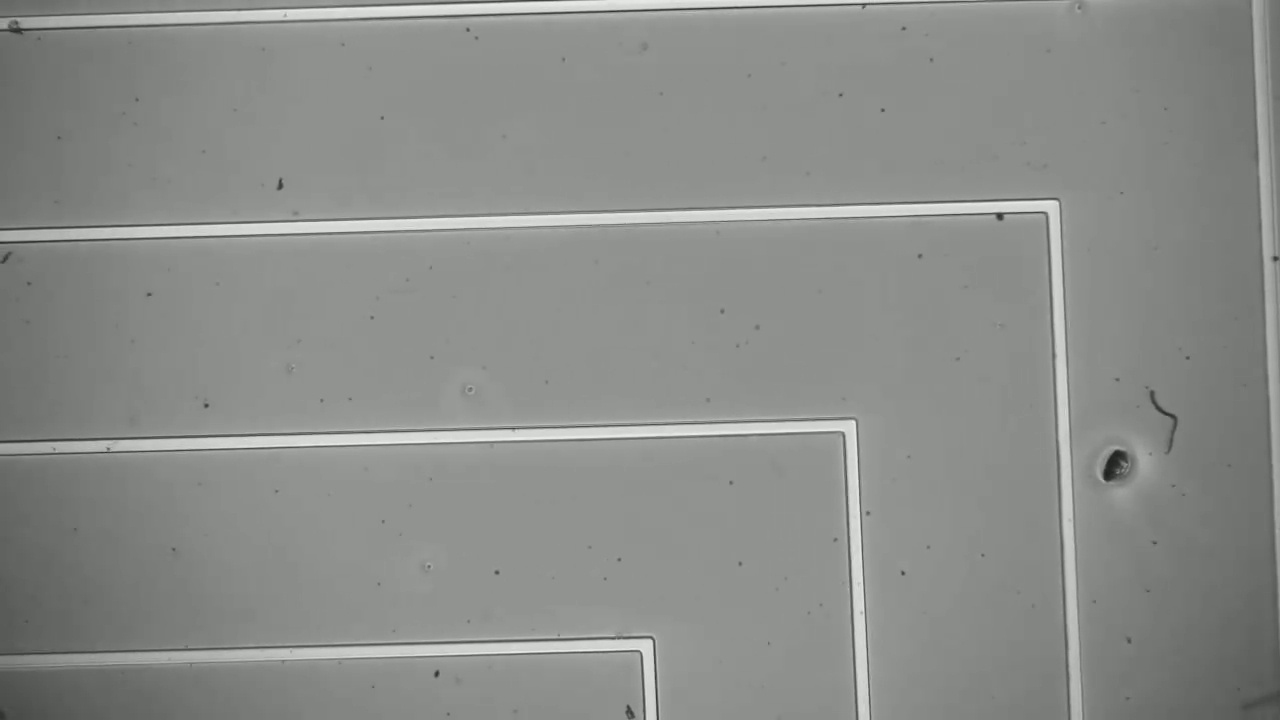stains_enbedded: (0, 9, 29, 40)
